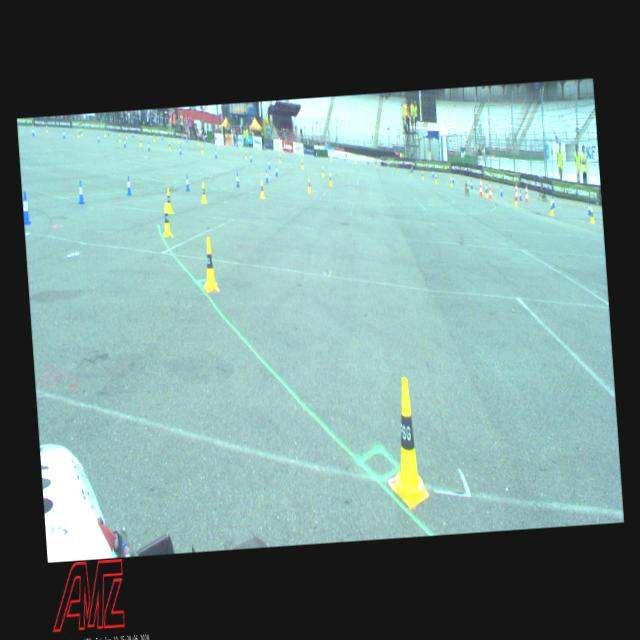blue_cone: (22, 190, 31, 223), (77, 180, 84, 203), (126, 175, 130, 195), (185, 173, 189, 190), (518, 190, 522, 200), (265, 170, 268, 182), (484, 183, 488, 192), (551, 196, 554, 207), (236, 172, 238, 186), (214, 148, 217, 157), (275, 164, 277, 176), (588, 202, 590, 214), (250, 152, 252, 162), (268, 158, 270, 168), (500, 186, 502, 195), (148, 142, 150, 150), (97, 133, 99, 141), (123, 138, 125, 146), (32, 126, 34, 134), (63, 130, 65, 138), (180, 146, 182, 154), (470, 180, 472, 188), (452, 175, 454, 182), (79, 126, 81, 133), (410, 164, 412, 171), (264, 146, 266, 150), (367, 158, 368, 165), (186, 136, 187, 142), (108, 128, 109, 134), (289, 148, 290, 154), (212, 138, 213, 144), (132, 132, 133, 136), (432, 170, 432, 177), (388, 160, 388, 167), (162, 134, 162, 140), (316, 152, 316, 156)
large_orange_cone: (524, 184, 528, 202), (488, 180, 492, 198), (478, 178, 482, 195), (515, 182, 518, 200)
yellow_cone: (384, 376, 428, 508), (200, 237, 218, 290), (161, 202, 171, 236), (166, 188, 172, 213), (201, 182, 206, 202), (259, 180, 264, 197), (590, 207, 594, 222), (307, 178, 311, 192), (328, 172, 332, 184), (484, 186, 488, 196), (514, 194, 517, 206), (321, 166, 324, 177), (550, 202, 552, 214), (449, 178, 452, 186), (468, 181, 470, 192), (78, 129, 80, 137), (301, 160, 303, 168), (119, 134, 121, 142), (278, 154, 280, 162), (434, 174, 436, 182), (140, 138, 142, 145), (168, 142, 170, 149), (125, 131, 127, 138), (374, 160, 376, 167), (421, 172, 423, 178), (201, 146, 203, 152), (354, 156, 356, 162), (178, 136, 179, 144), (410, 168, 411, 176), (330, 152, 331, 160), (46, 125, 47, 132), (104, 130, 105, 136), (246, 152, 247, 158), (81, 128, 82, 134), (282, 146, 283, 152), (302, 150, 303, 155), (396, 165, 396, 172), (154, 134, 154, 141), (240, 142, 240, 148), (218, 140, 218, 145), (198, 138, 198, 144), (260, 145, 260, 150)
